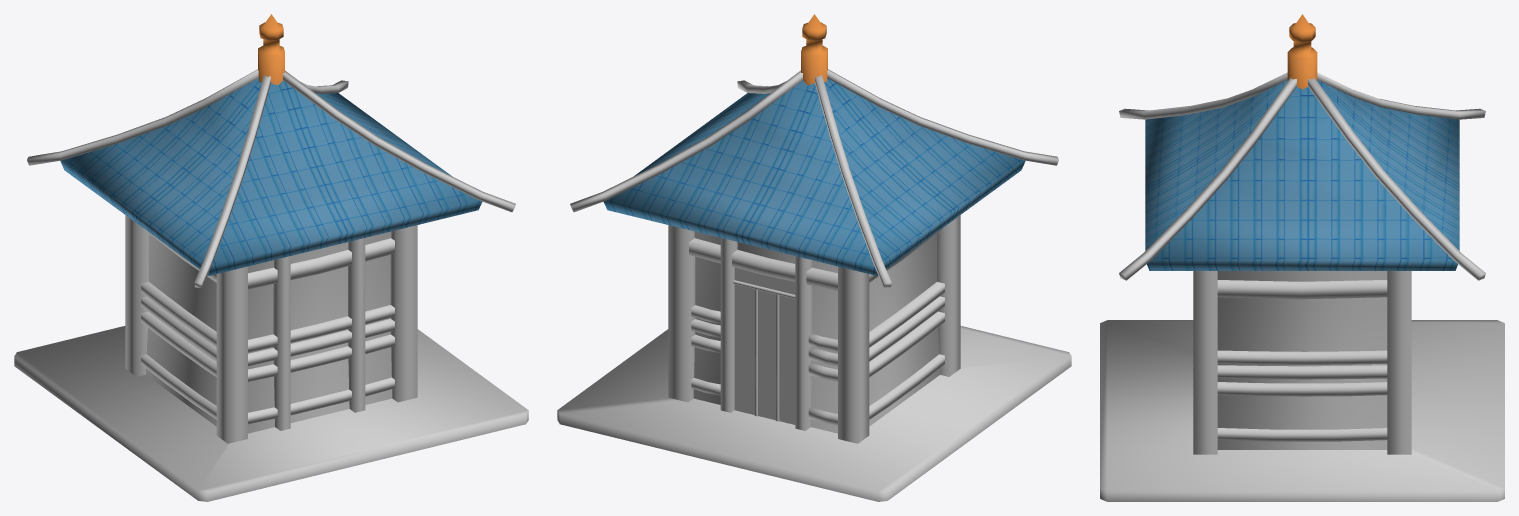
Rendered from Small Building_1.fbx.
3 views of the same model, side by side, from view 1: azimuth 30°, elevation 25°; view 2: azimuth 150°, elevation 25°; view 3: azimuth 270°, elevation 25° (orthographic). The views are drawn at different scales.
Visible parts, largest first — view 1: Small Building_1; view 2: Small Building_1; view 3: Small Building_1.
Boxes of the visible parts, x1,y1,x2,y2 form: Small Building_1: (14,14,528,501); Small Building_1: (557,14,1071,501); Small Building_1: (1100,14,1504,501).
Bounding box in the file's own units: 5.12 × 5.62 × 5.12.
